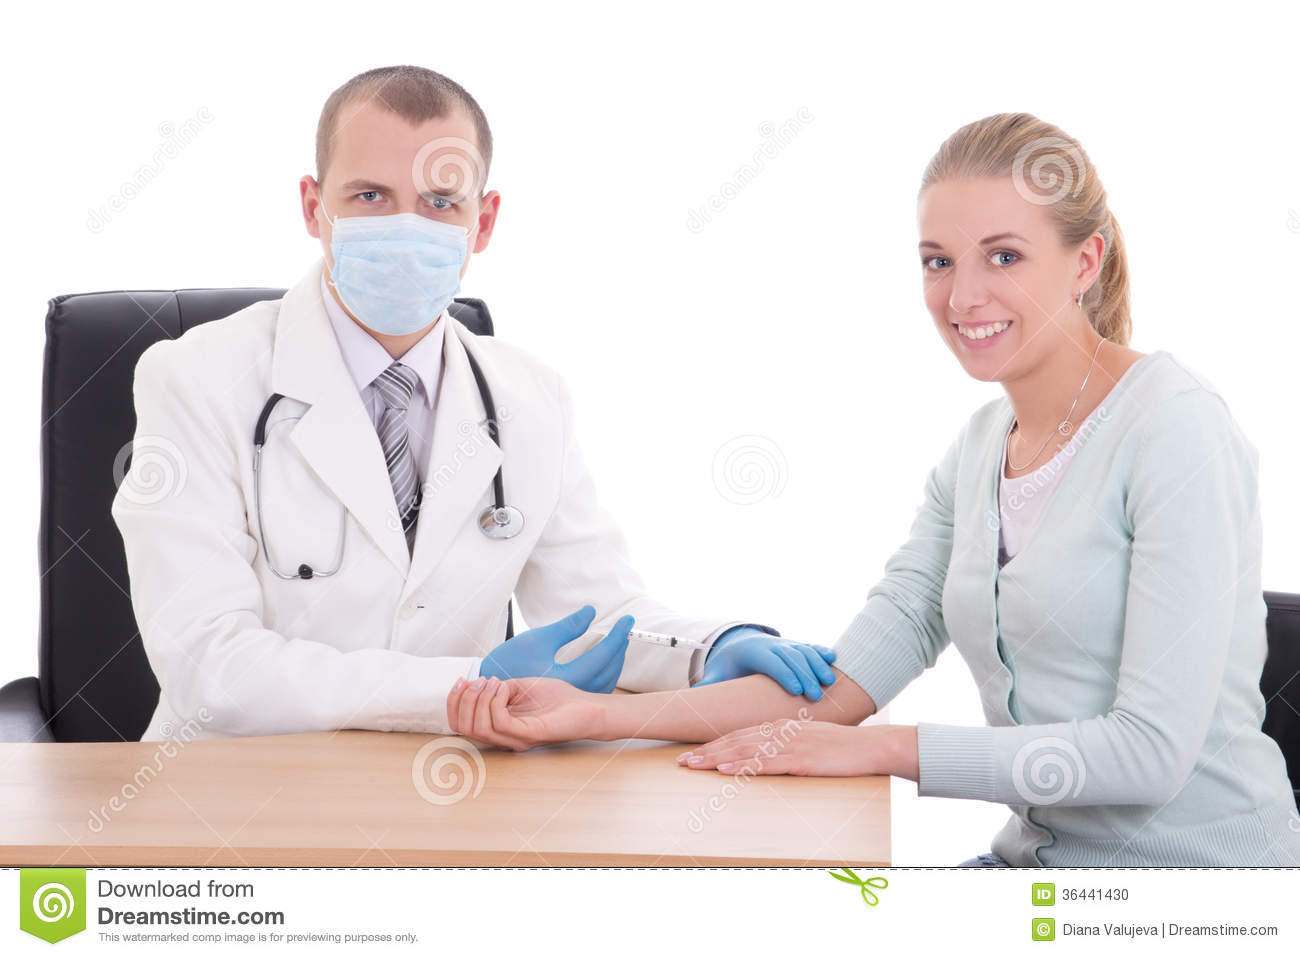mask: (323, 214, 479, 327)
